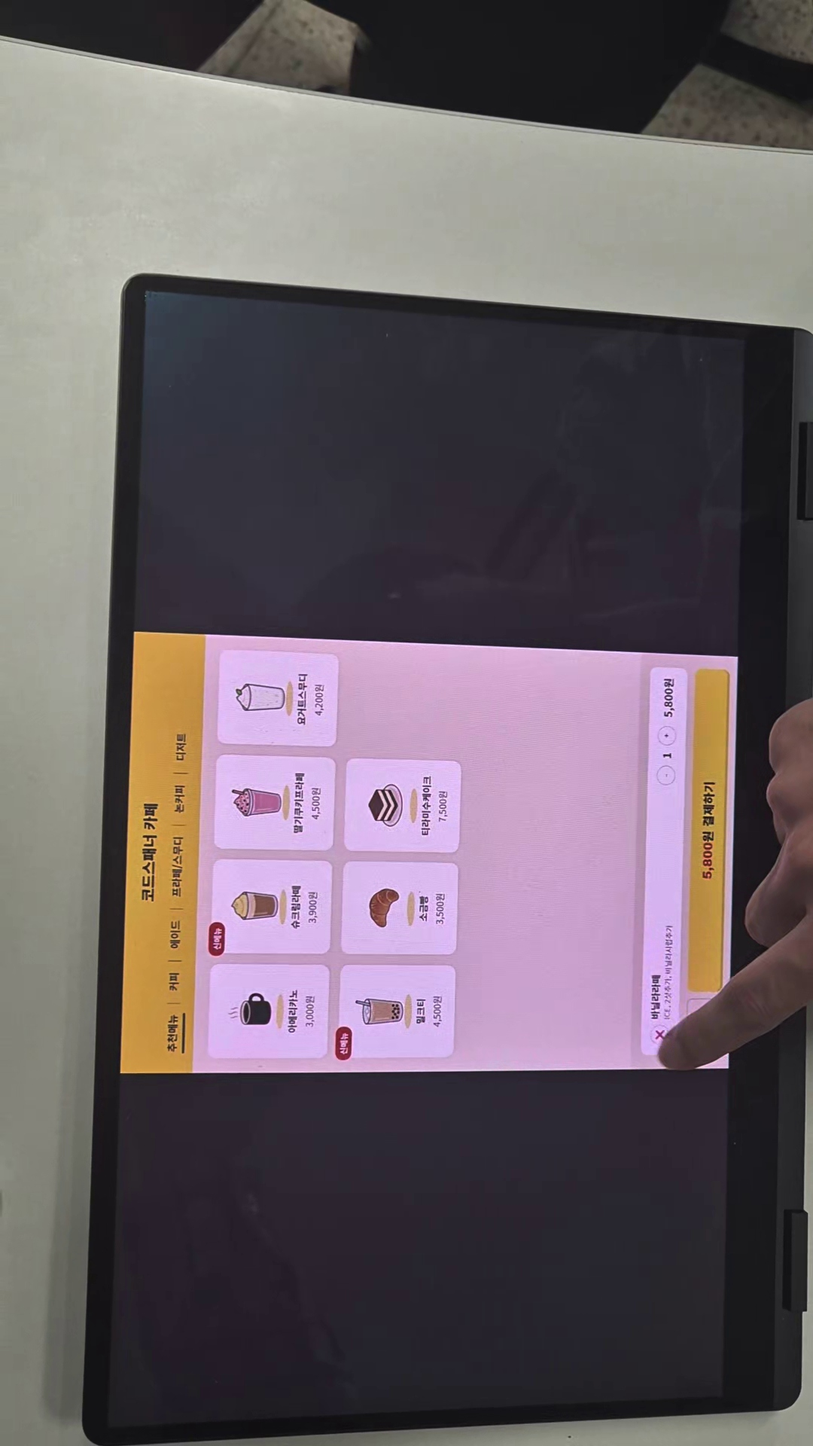action_button: (688, 672, 726, 989)
cart_item: (644, 665, 683, 1054)
category_tab: (169, 833, 185, 899), (171, 781, 190, 819), (164, 1013, 179, 1057), (166, 967, 184, 1002), (168, 916, 182, 956), (173, 732, 190, 764)
menu_back: (219, 650, 340, 746), (217, 753, 335, 851), (212, 860, 331, 956), (207, 964, 331, 1055), (343, 757, 463, 850), (340, 861, 459, 954), (338, 967, 458, 1057)
menu_name: (291, 770, 307, 836), (420, 773, 433, 836), (287, 882, 303, 933), (287, 985, 302, 1038), (296, 670, 309, 727), (413, 992, 431, 1033), (416, 891, 431, 926)
menu_price: (303, 996, 322, 1028), (436, 790, 453, 824), (306, 892, 320, 930), (310, 785, 324, 821), (435, 892, 449, 928), (312, 679, 325, 717), (433, 993, 446, 1028)
